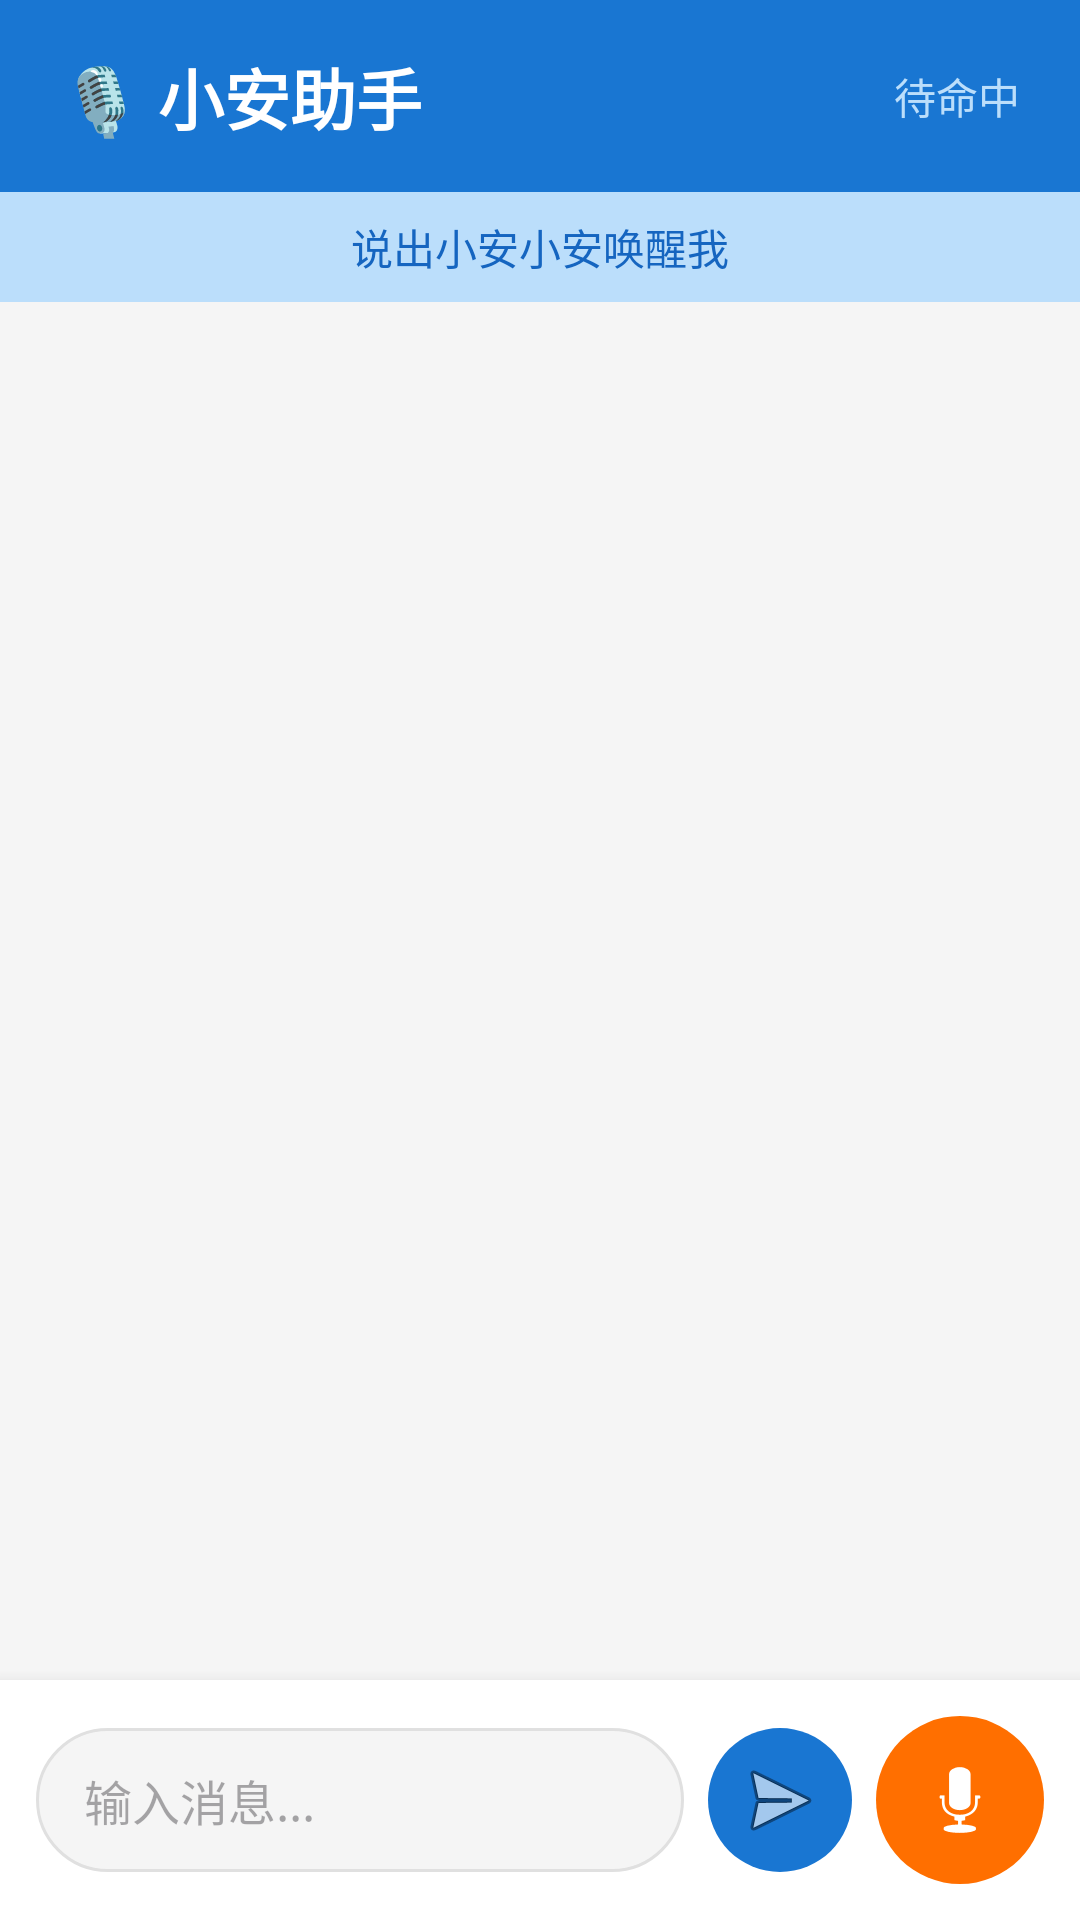

Where icons sit on this 1080w x 1920h app screen, as (x1, y1, x2, y2):
发送: (708, 1728, 852, 1872)
语音: (876, 1716, 1044, 1884)
